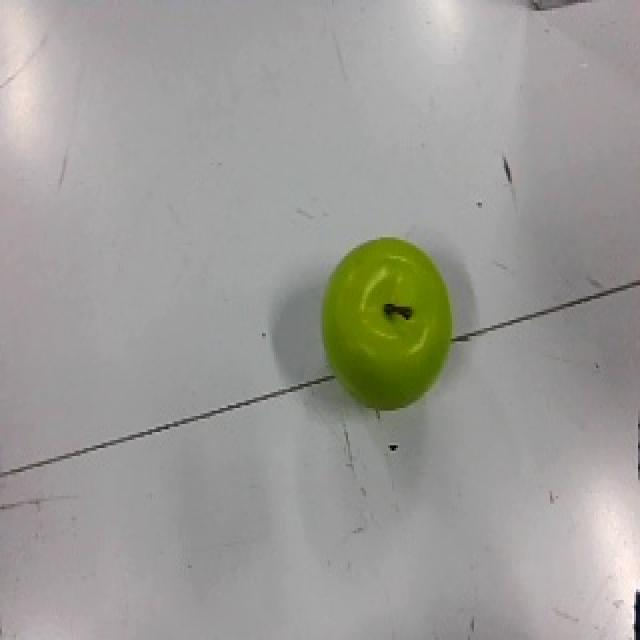apple: (319, 234, 469, 410)
